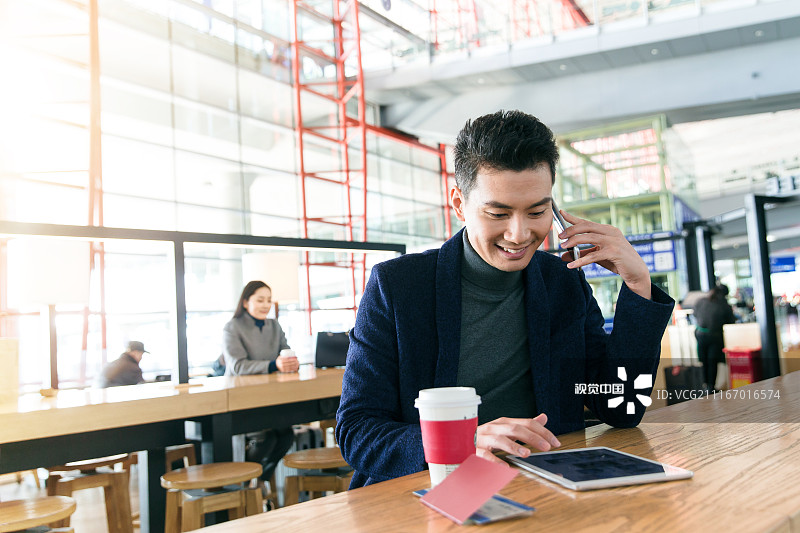calling: (527, 186, 664, 296)
no-phone: (459, 394, 567, 473)
